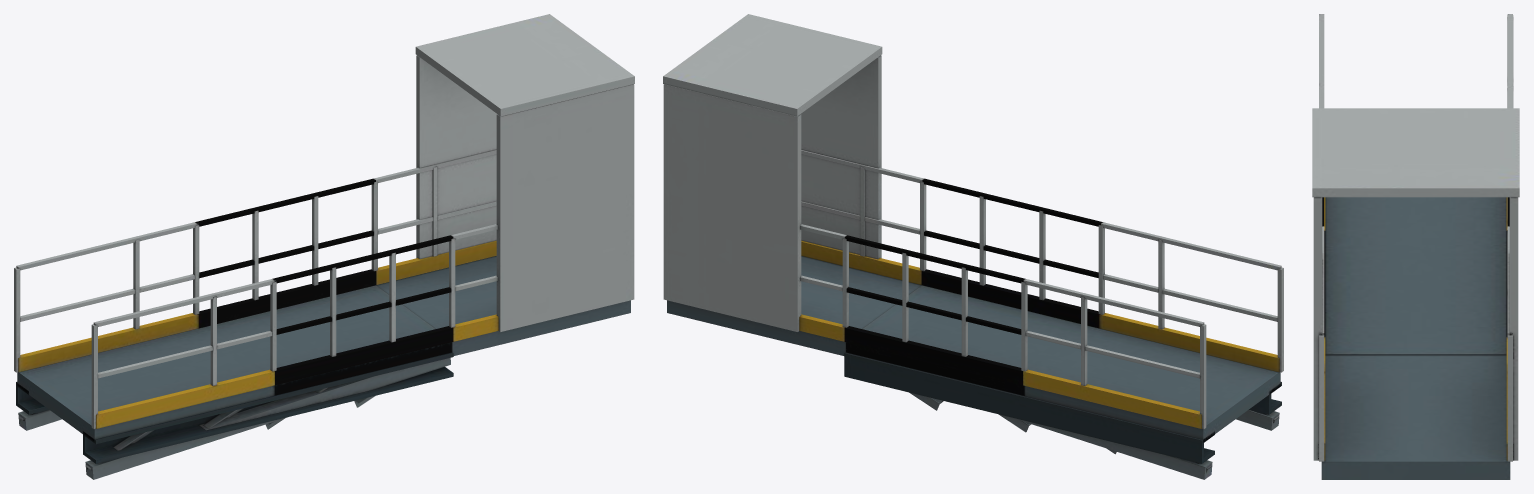
File: crew_arm.glb
3 views of the same model, side by side, from view 1: azimuth 30°, elevation 25°; view 2: azimuth 150°, elevation 25°; view 3: azimuth 270°, elevation 25° (orthographic). The views are drawn at different scales.
Visible parts, largest first — view 1: white_room, fixed; view 2: white_room, fixed; view 3: white_room, fixed.
Part boxes in pixels (<box>): white_room: <box>193,14,634,385</box>; fixed: <box>14,180,455,479</box>; white_room: <box>663,14,1104,395</box>; fixed: <box>842,181,1283,479</box>; white_room: <box>1312,108,1519,479</box>; fixed: <box>1319,14,1513,355</box>.
Bounding box in the file's own units: 6.05 × 2.96 × 1.65.
Materials: 2 (2 with a texture image).
